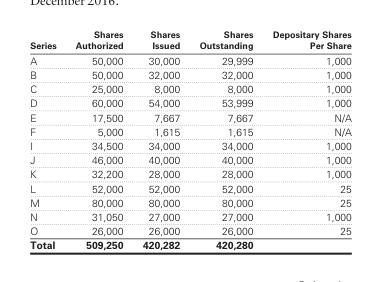table: (29, 28, 350, 251)
table column: (262, 28, 350, 251), (188, 28, 262, 251), (65, 28, 132, 251), (132, 28, 188, 251), (29, 28, 65, 251)
table column header: (29, 28, 350, 51)
table row: (29, 28, 350, 51), (29, 51, 350, 67), (29, 109, 350, 124), (29, 180, 350, 195), (29, 67, 350, 81), (29, 81, 350, 95), (29, 95, 350, 109), (29, 124, 350, 138), (29, 138, 350, 152), (29, 152, 350, 166), (29, 166, 350, 180), (29, 195, 350, 209), (29, 209, 350, 223), (29, 223, 350, 237), (29, 237, 350, 251)
